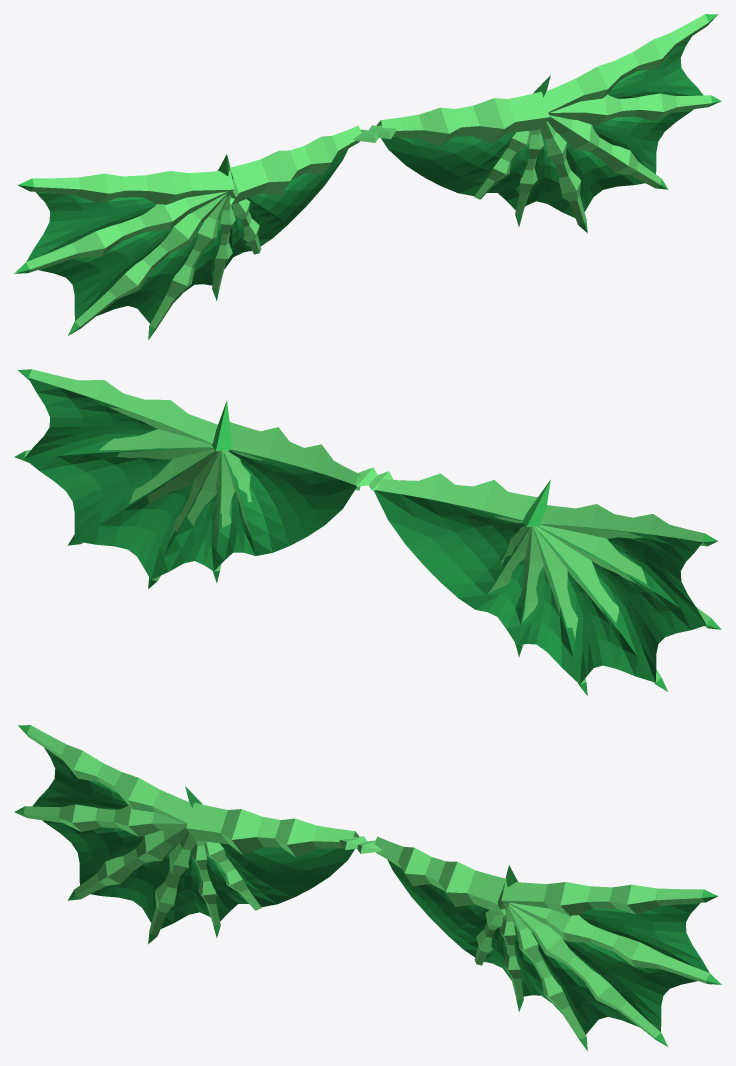
File: verdant_wings.obj
3 views of the same model, one above another, from view 1: azimuth 30°, elevation 25°; view 2: azimuth 150°, elevation 25°; view 3: azimuth 330°, elevation 25° (orthographic).
Parts seen in each view (by area): view 1: LeftWing, RightWing; view 2: RightWing, LeftWing; view 3: RightWing, LeftWing.
Part boxes in pixels (x1,y1,x2,y2): LeftWing: (14, 125, 378, 339); RightWing: (369, 14, 721, 233); RightWing: (14, 369, 377, 589); LeftWing: (369, 471, 721, 695); RightWing: (357, 836, 721, 1050); LeftWing: (14, 725, 366, 944).
Size of the model in its own units: 3.22 by 0.8311 by 0.2596.
